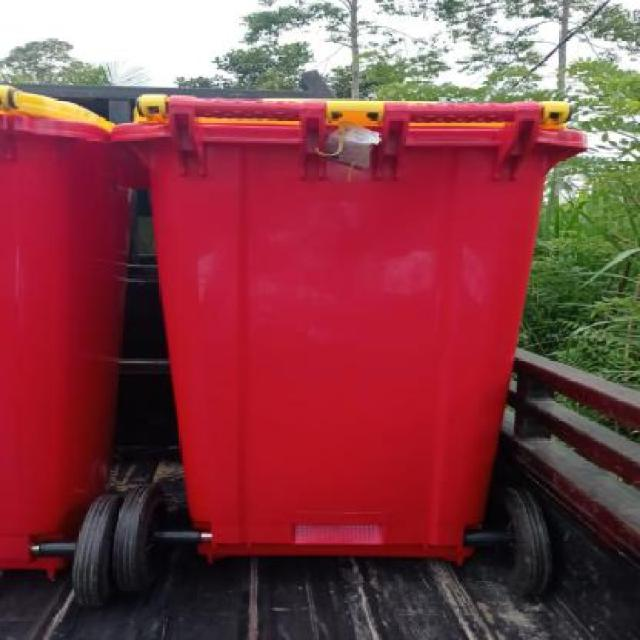garbage container: (103, 88, 592, 620)
